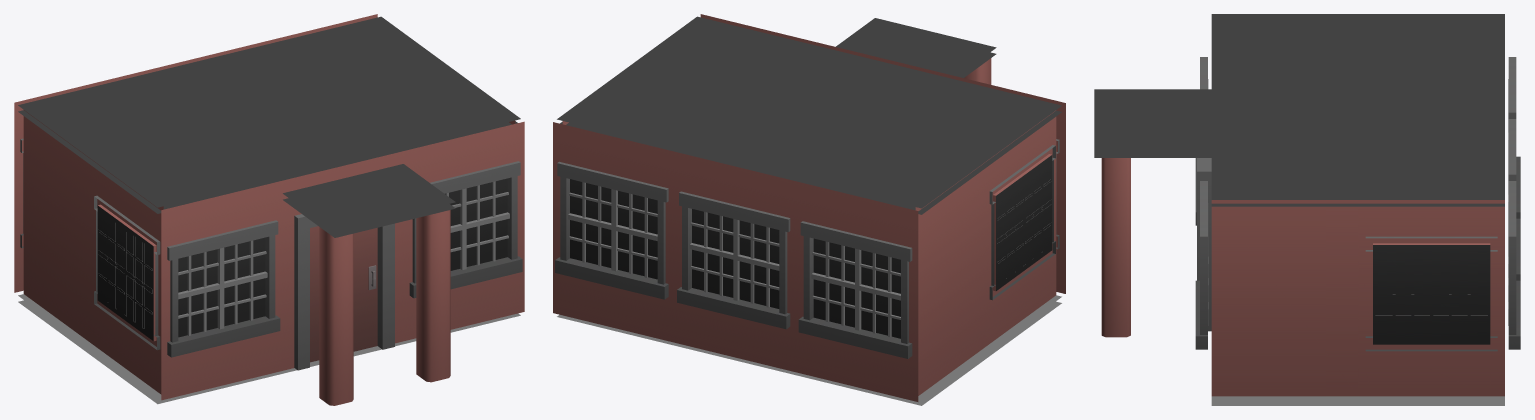
Rendered from inspection-office.glb.
The picture shows the model from 3 angles, left to right: view 1: azimuth 30°, elevation 25°; view 2: azimuth 150°, elevation 25°; view 3: azimuth 270°, elevation 25°; orthographic projection. The views are drawn at different scales.
Parts seen in each view (by area): view 1: TreyIndustrialInspectionOfficeVisual; view 2: TreyIndustrialInspectionOfficeVisual; view 3: TreyIndustrialInspectionOfficeVisual.
Boxes of the visible parts, x1,y1,x2,y2 form: TreyIndustrialInspectionOfficeVisual: (14, 14, 524, 405); TreyIndustrialInspectionOfficeVisual: (553, 14, 1065, 405); TreyIndustrialInspectionOfficeVisual: (1094, 14, 1520, 405).
Bounding box in the file's own units: 6 × 3.1 × 5.82.
1 material, 1 textured.
